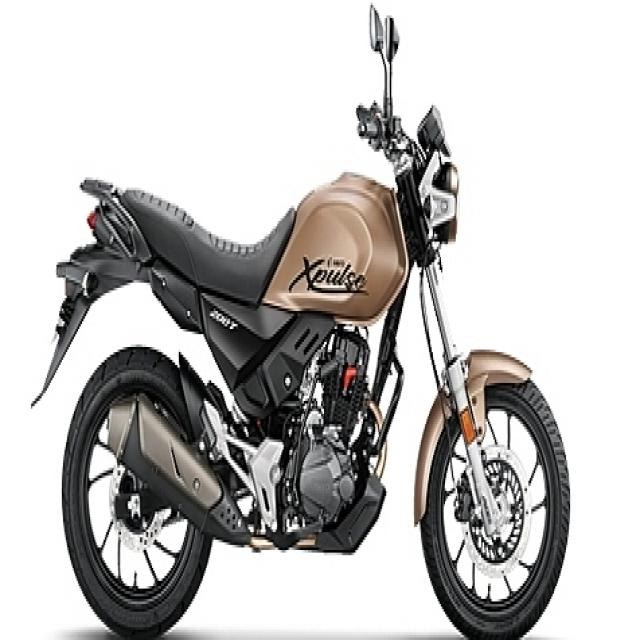Bike: (67, 3, 568, 637)
